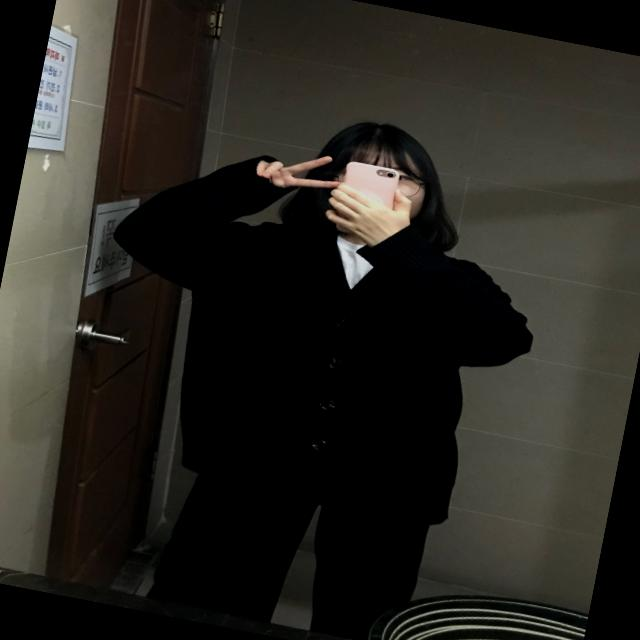cardigan: (68, 130, 560, 544)
slacks: (148, 465, 435, 640)
